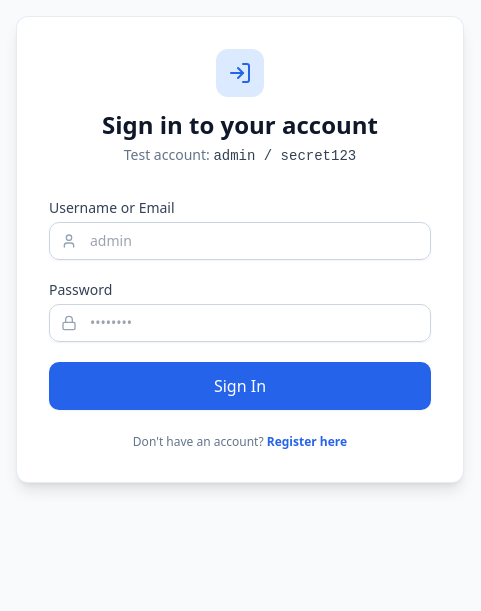
LoginPage & Form Validation › displays server error alert when incorrect credentials are submitted
In the field labelled "Username or Email": (240, 241) [49, 222, 431, 260], type "wronguser"
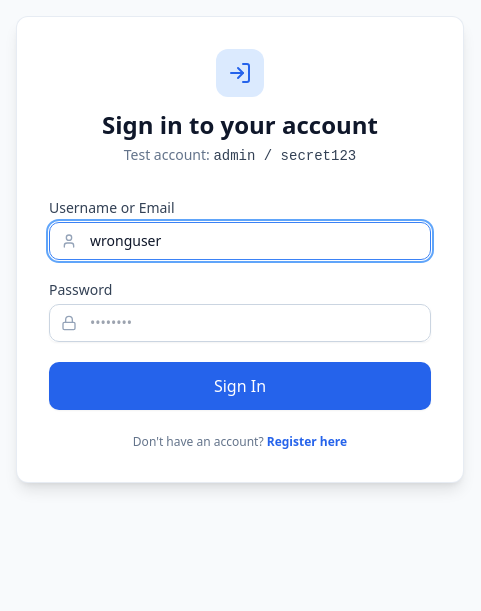
In the password field labelled "Password": (240, 323) [49, 304, 431, 342], type "wrongpassword123"
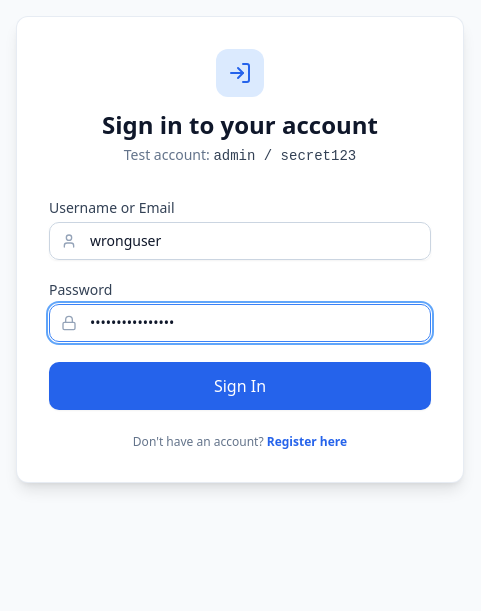
Click the button "Sign In": (240, 386) [49, 362, 431, 410]
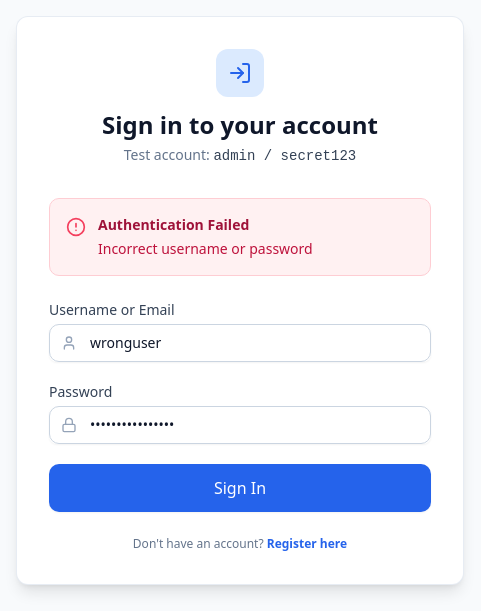
Expected: the message "Authentication Failed Incorrect username or password" is shown, [49, 198, 431, 276]
Expected: the text "Incorrect username or password" is shown, [98, 239, 313, 258]
